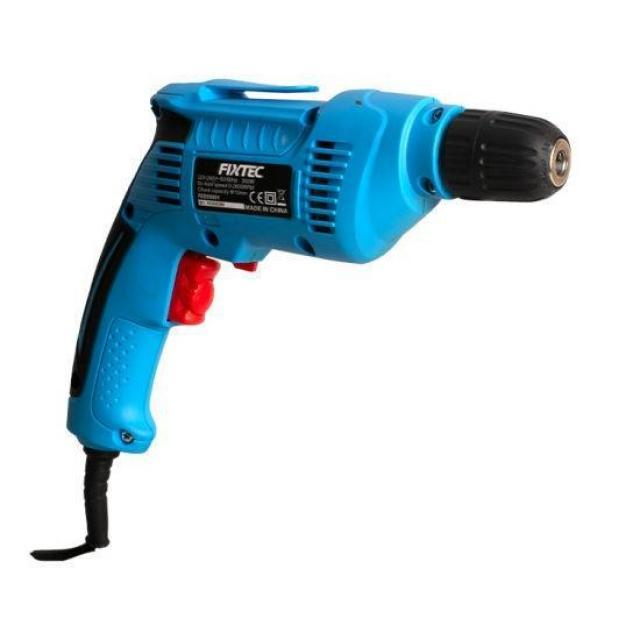drill: (66, 77, 574, 549)
